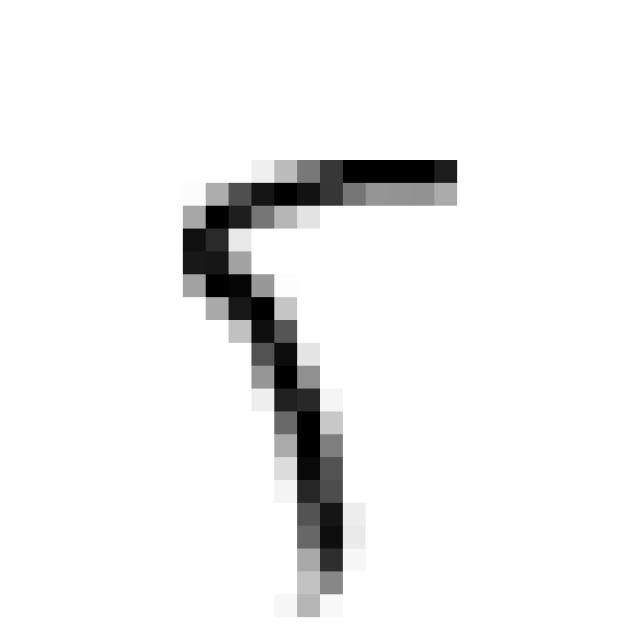2 -two-: (155, 130, 471, 630)
